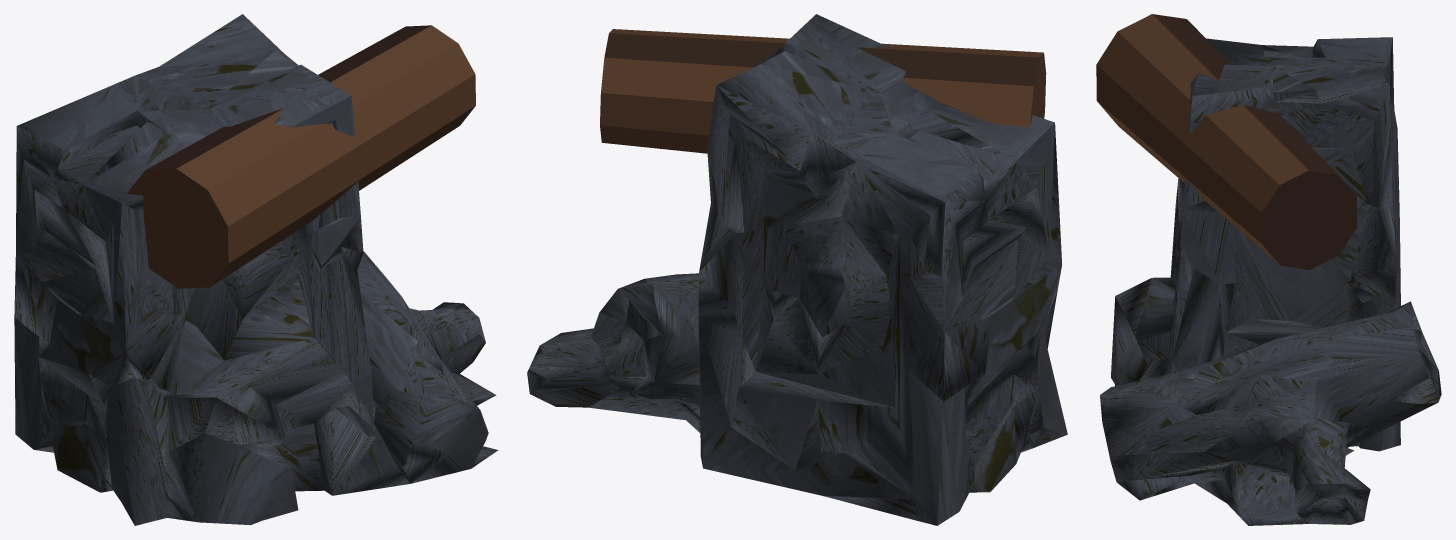
The model's file is cover_half_jungle_v7_lod1.glb.
The picture shows the model from 3 angles, left to right: view 1: azimuth 30°, elevation 25°; view 2: azimuth 150°, elevation 25°; view 3: azimuth 270°, elevation 25°; orthographic projection. The views are drawn at different scales.
Visible parts, largest first — view 1: Mesh_0, Fallen trunk across ruin; view 2: Mesh_0, Fallen trunk across ruin; view 3: Mesh_0, Fallen trunk across ruin.
Boxes of the visible parts, x1,y1,x2,y2 form: Mesh_0: (14, 14, 498, 525); Fallen trunk across ruin: (127, 25, 475, 288); Mesh_0: (527, 14, 1067, 525); Fallen trunk across ruin: (600, 29, 1046, 153); Mesh_0: (1100, 37, 1441, 525); Fallen trunk across ruin: (1096, 14, 1357, 269).
Size of the model in its own units: 0.9514 by 0.7958 by 0.6996.
Materials: 3 (1 with a texture image).
